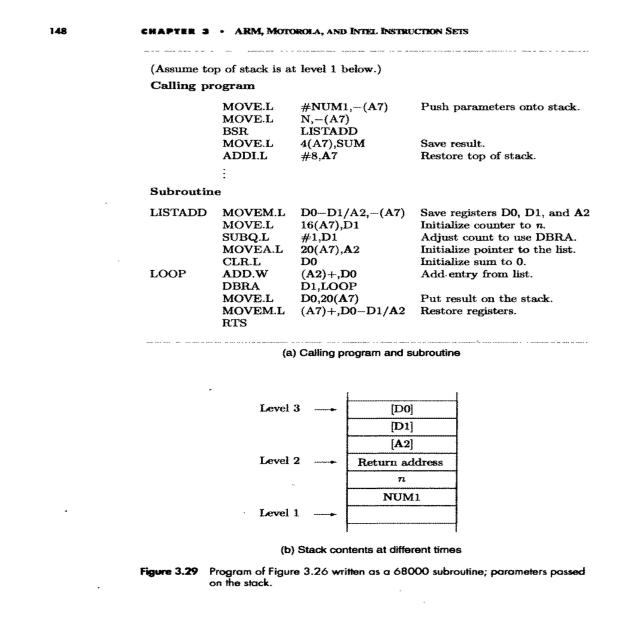diagram: (181, 350, 640, 598)
